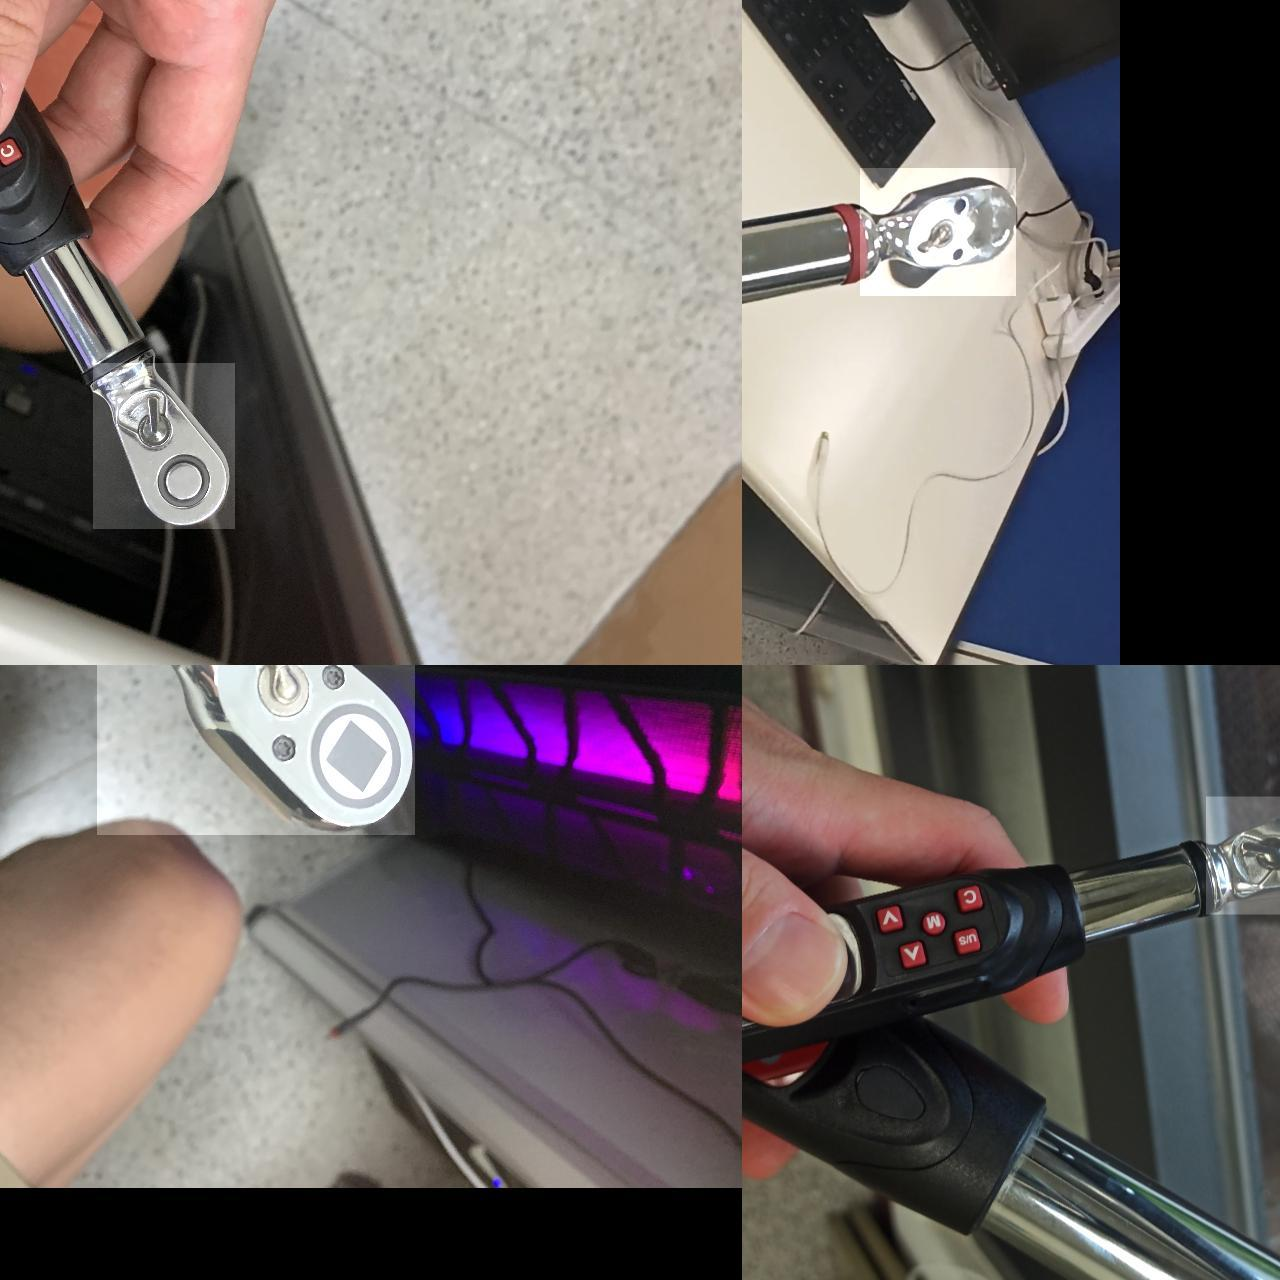Tool: (97, 665, 415, 835), (93, 362, 234, 527), (860, 166, 1016, 295), (1205, 796, 1280, 914)
